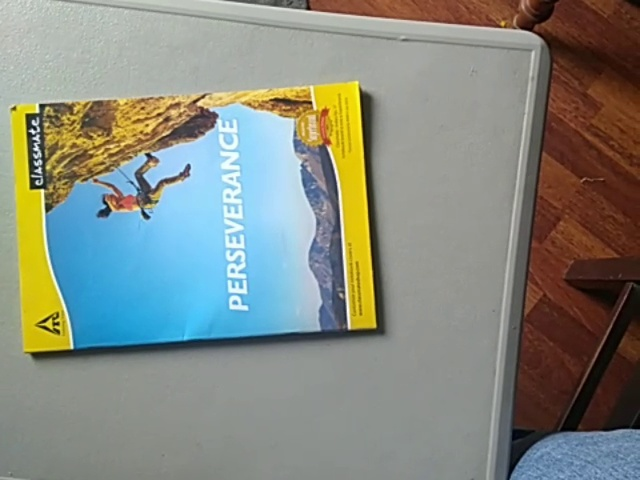Book: (6, 85, 388, 354)
